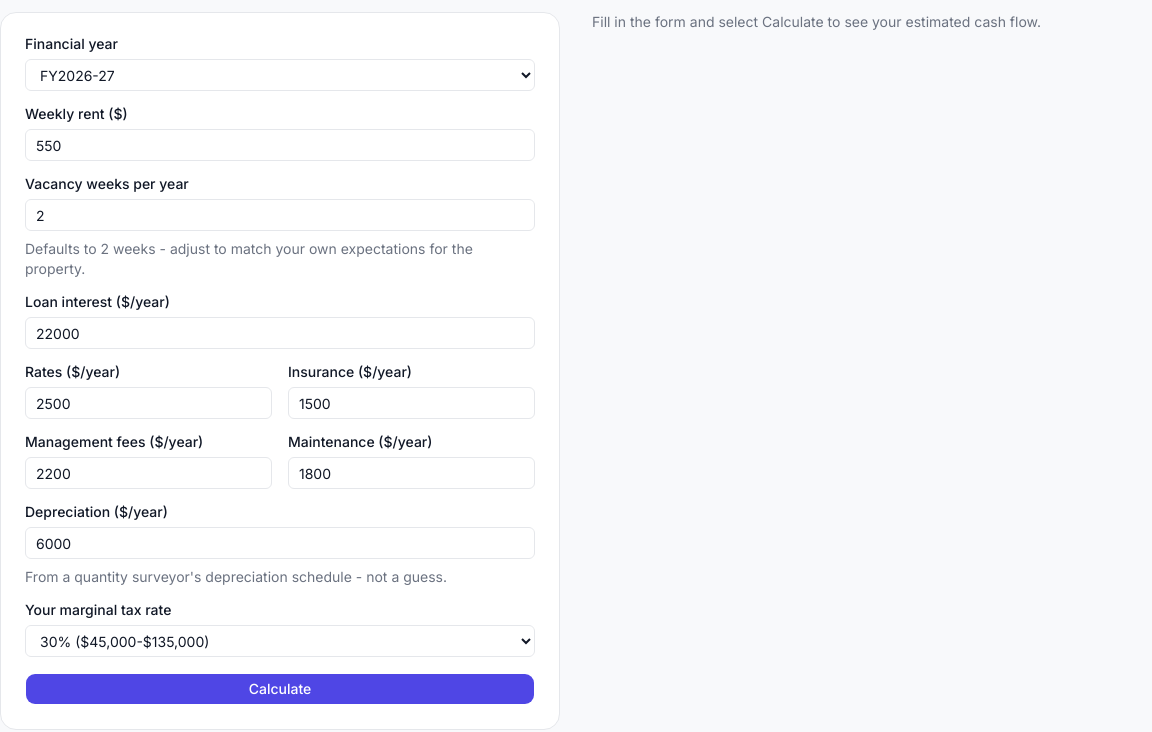
Test: PropertyCashFlowCalculator › rejects more than 52 vacancy weeks per year
The width and height of the screenshot is (1152, 732).
Replace the text in the number field labelled "Vacancy weeks per year" with "60" at coordinates (280, 215), box [25, 199, 535, 231]
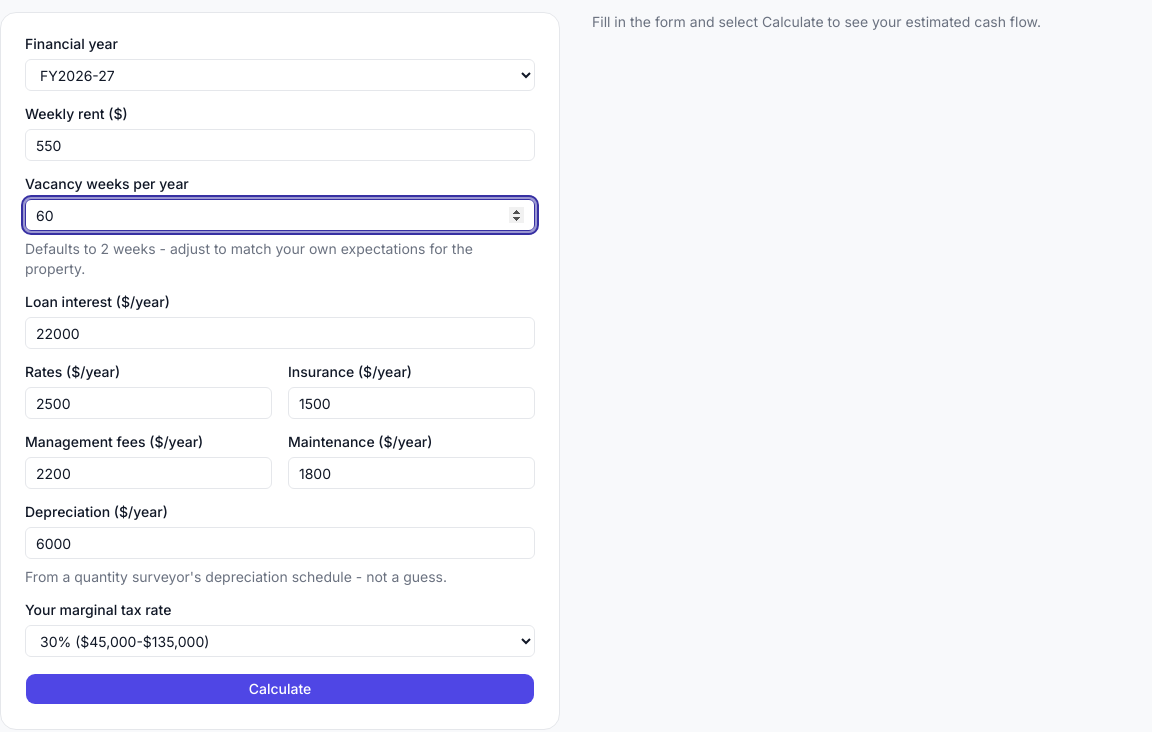
Click the button "Calculate" at coordinates (280, 689), box [25, 673, 535, 705]
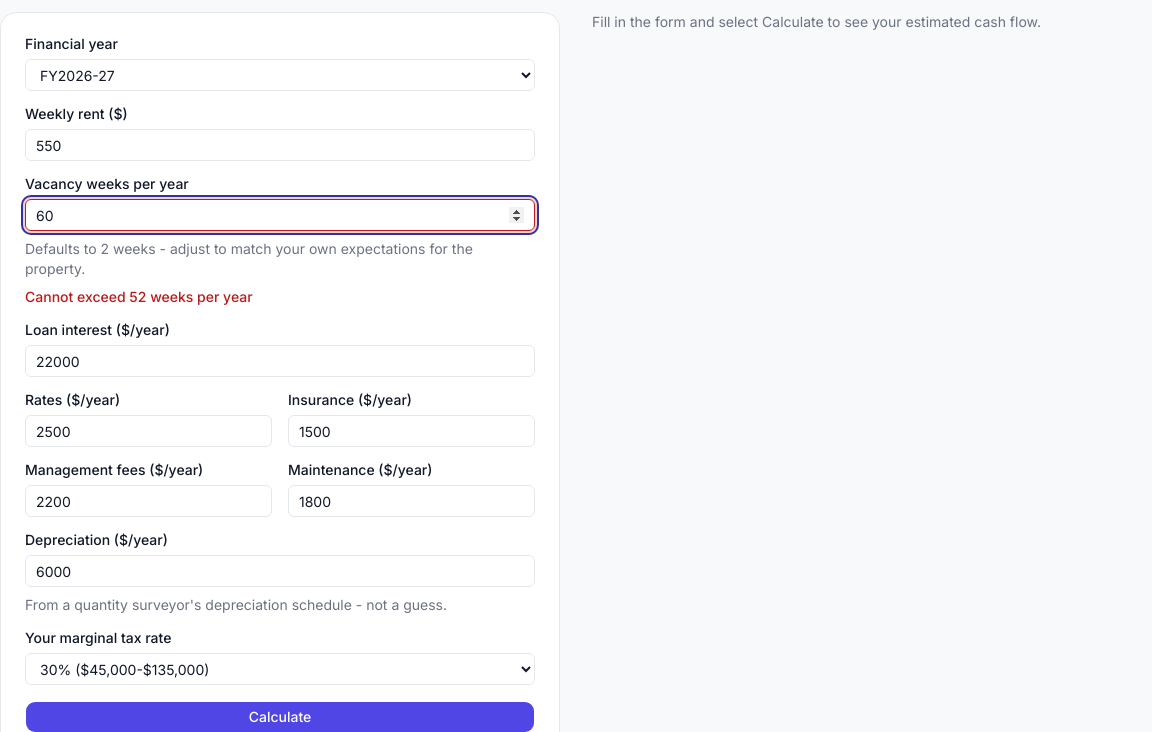
Now the message shows "Cannot exceed 52 weeks", box [25, 288, 253, 305]
